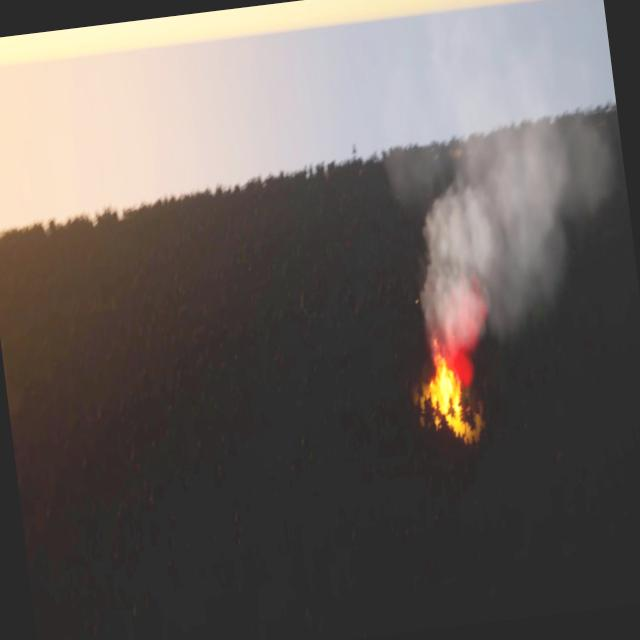fire: (412, 338, 477, 438)
smoke: (390, 12, 621, 346)
